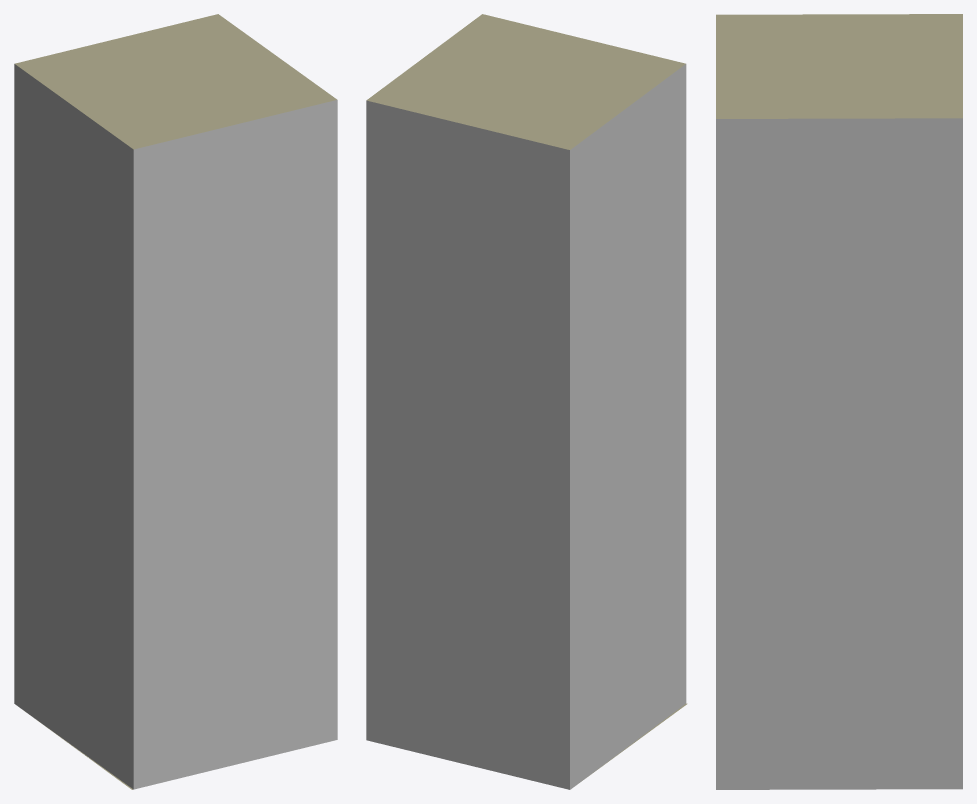
The model's file is ExportedBlenderFBXFile.fbx.
The picture shows the model from 3 angles, left to right: view 1: azimuth 30°, elevation 25°; view 2: azimuth 150°, elevation 25°; view 3: azimuth 270°, elevation 25°; orthographic projection. The views are drawn at different scales.
Parts seen in each view (by area): view 1: Plane; view 2: Plane; view 3: Plane.
Part boxes in pixels (x1=…): Plane: x1=14, y1=14, x2=337, y2=789; Plane: x1=366, y1=14, x2=687, y2=789; Plane: x1=716, y1=14, x2=962, y2=789.
Size of the model in its own units: 2.01 by 6 by 2.
